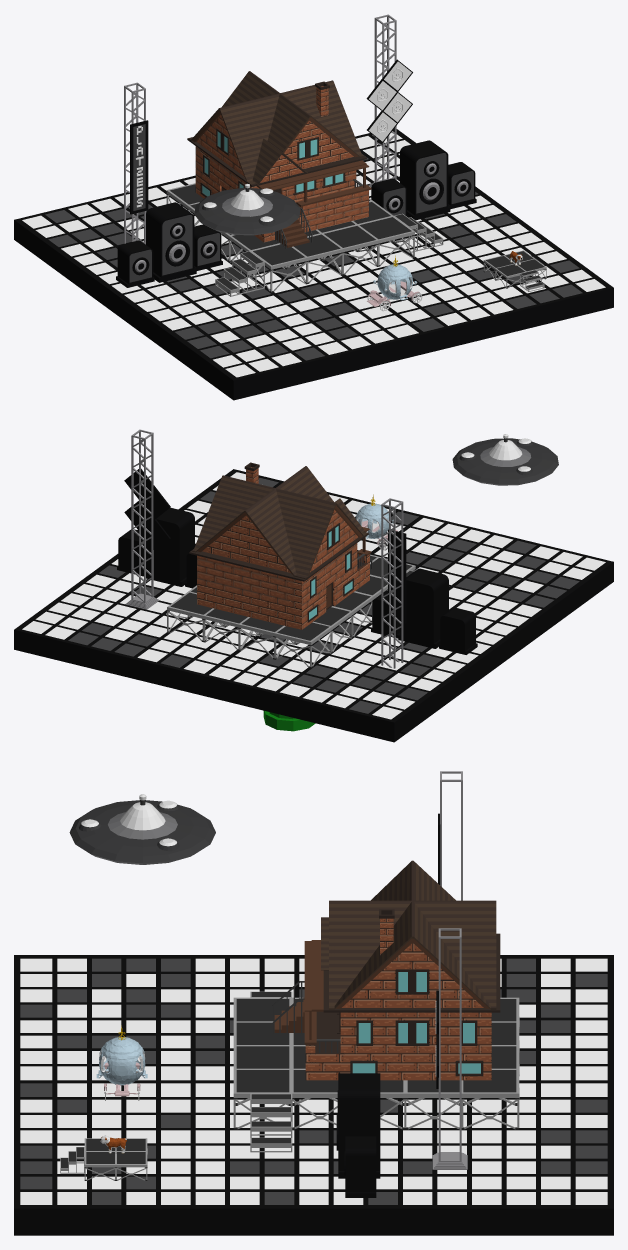
3 views of the same model, one above another, from view 1: azimuth 30°, elevation 25°; view 2: azimuth 150°, elevation 25°; view 3: azimuth 270°, elevation 25° (orthographic). The views are drawn at different scales.
Parts seen in each view (by area): view 1: Cube.008, Cube.469, OBJRANDOM_UFO, VEHICLES_FANTASY_CARRIAGE; view 2: Cube.008, Cube.469, OBJRANDOM_UFO, VEHICLES_FANTASY_CARRIAGE, UNDERGROUND_PIPES; view 3: Cube.008, Cube.469, OBJRANDOM_UFO, VEHICLES_FANTASY_CARRIAGE.
Part boxes in pixels (x1,y1,x2,y2): Cube.008: (14,14,613,400); Cube.469: (187,71,371,248); OBJRANDOM_UFO: (194,183,300,235); VEHICLES_FANTASY_CARRIAGE: (367,255,422,311); Cube.008: (14,429,613,742); Cube.469: (189,462,372,629); OBJRANDOM_UFO: (452,434,558,485); VEHICLES_FANTASY_CARRIAGE: (355,494,397,550); UNDERGROUND_PIPES: (263,711,315,731); Cube.008: (14,771,613,1235); Cube.469: (272,860,500,1080); OBJRANDOM_UFO: (69,794,215,864); VEHICLES_FANTASY_CARRIAGE: (96,1025,147,1100).
Bounding box in the file's own units: 4000 × 2555 × 4000.
Materials: 34 (2 with a texture image).
